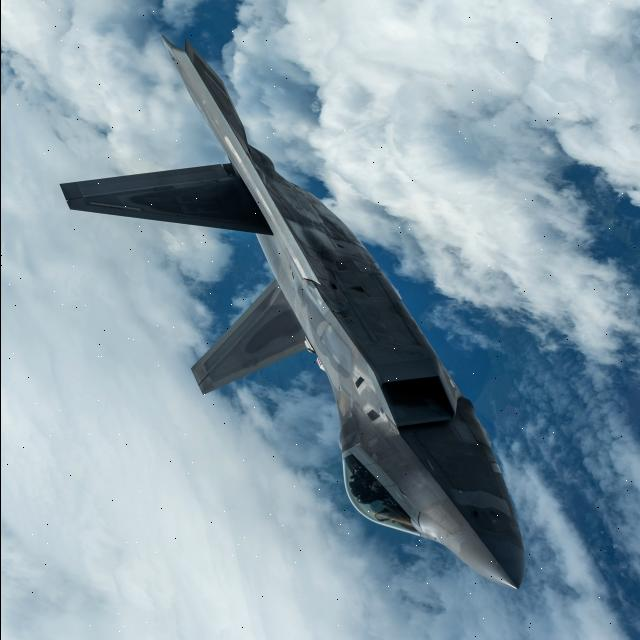F22: (51, 25, 538, 607)
